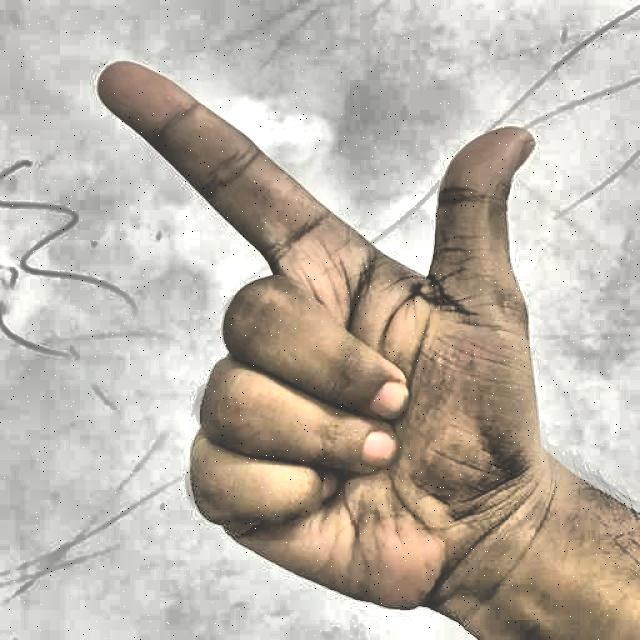Tha: (72, 24, 578, 624)
